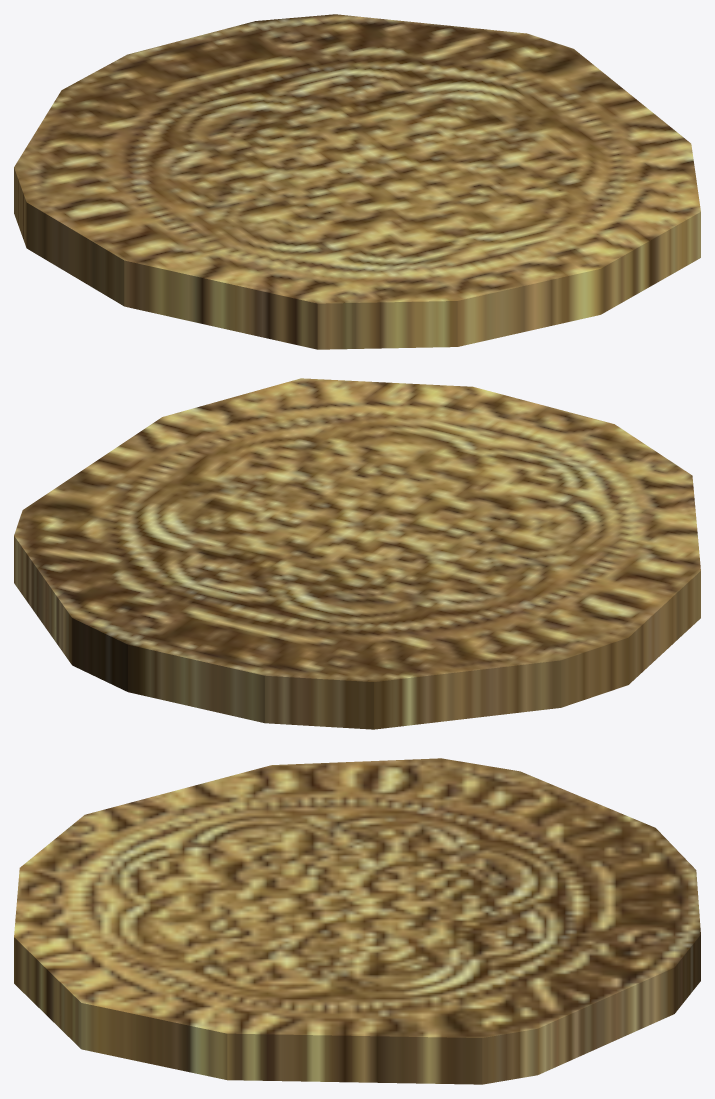
Rendered from goldcoin.glb.
3 renders of one model, top to bottom at view 1: azimuth 30°, elevation 25°; view 2: azimuth 150°, elevation 25°; view 3: azimuth 270°, elevation 25°, orthographic. The views are drawn at different scales.
Parts seen in each view (by area): view 1: Cube; view 2: Cube; view 3: Cube.
Boxes of the visible parts, x1,y1,x2,y2 form: Cube: [14, 14, 700, 349]; Cube: [14, 378, 700, 729]; Cube: [14, 758, 700, 1084].
Size of the model in its own units: 0.3322 by 0.0258 by 0.3447.
1 material, 1 textured.
